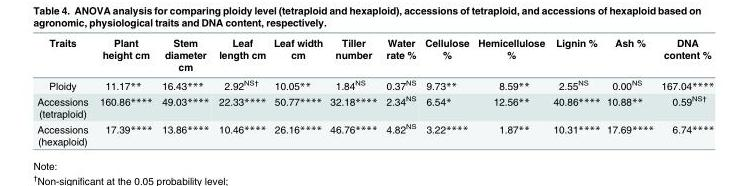table: (36, 36, 713, 146)
table column: (472, 36, 548, 146), (93, 36, 156, 146), (36, 36, 93, 146), (156, 36, 213, 146), (656, 36, 713, 146), (213, 36, 269, 146), (269, 36, 325, 146), (325, 36, 381, 146), (548, 36, 602, 146), (602, 36, 656, 146), (419, 36, 472, 146), (381, 36, 419, 146)
table column header: (36, 36, 713, 75)
table row: (36, 36, 713, 75), (36, 92, 713, 120), (36, 120, 713, 146), (36, 75, 713, 92)
